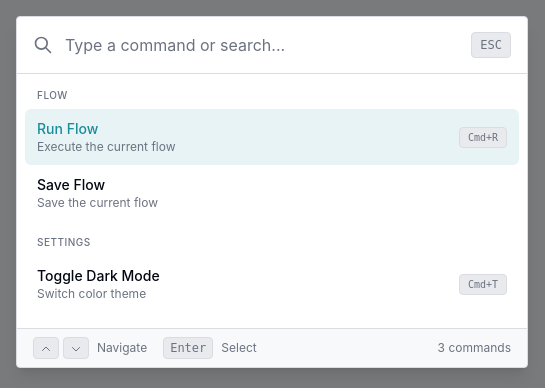
CommandPalette › filters commands based on search query
Type "Run" into the field with placeholder "Type a command or search..." at (268,45), box [65,17,471,73]
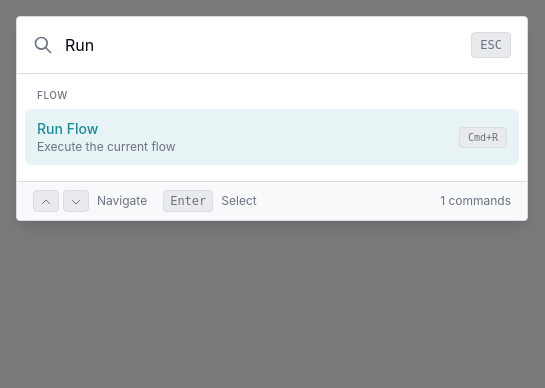
Expected: the text "Run Flow" is shown, [37,120,98,137]
Expected: the option "Toggle Dark Mode" is gone
